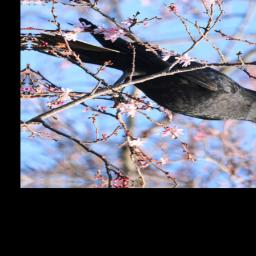Crow: (28, 17, 256, 144)
